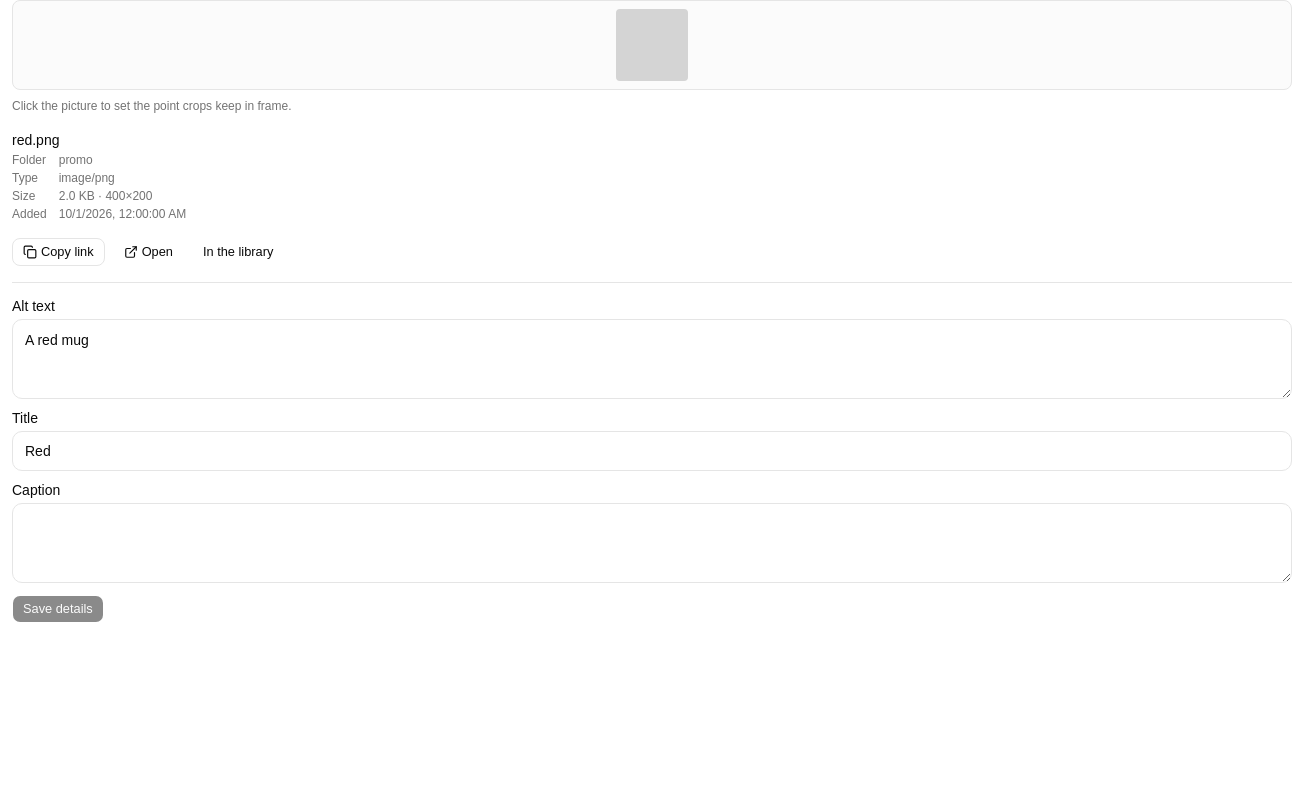
Test case: AssetPanel › puts the words back on Undo
The image size is (1304, 800).
Replace the text in the field labelled "Title" with "Blue". click: (652,451)
box: [12,431,1292,471]
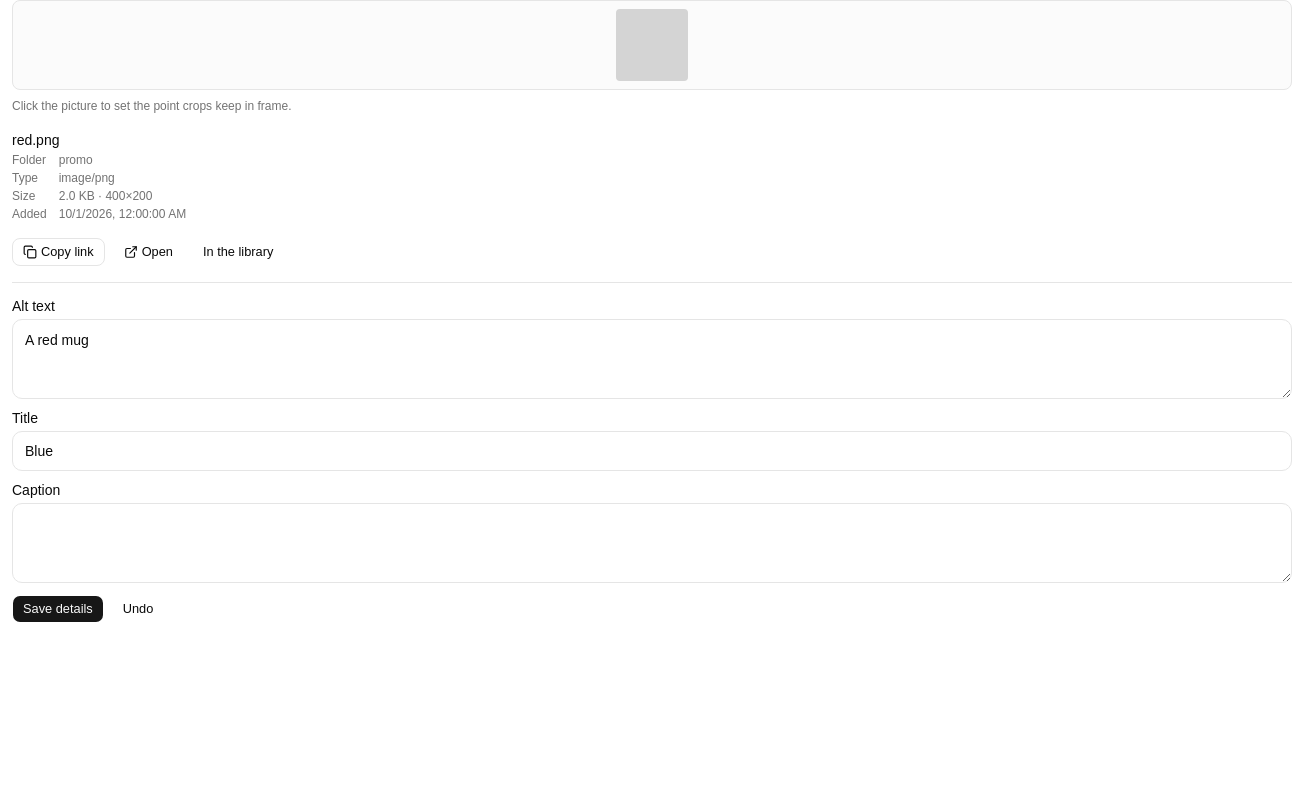
Click the button "Undo". click: (138,609)
box: [112,595,164,623]
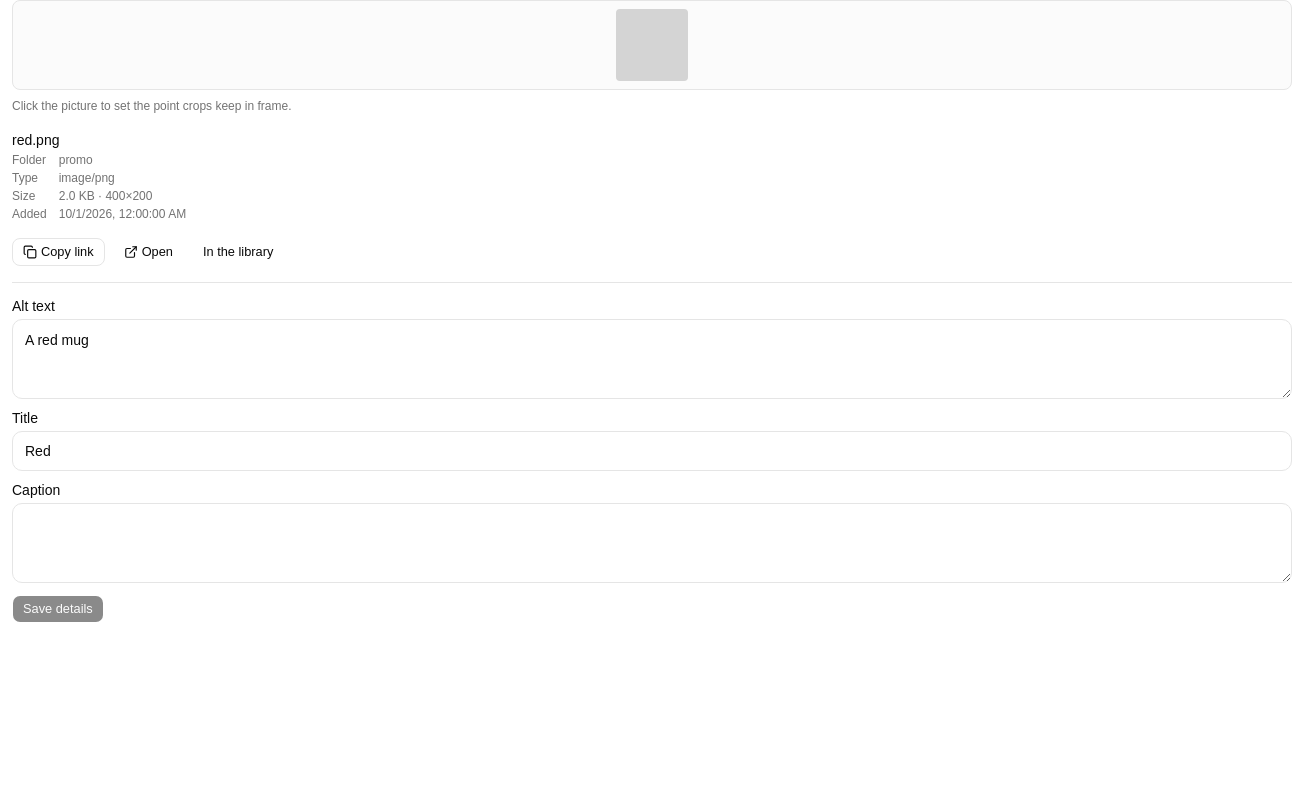
Expected: the field labelled "Title" holds "Red", [12,431,1292,471]
Expected: the button "Undo" is gone
Expected: the button "Save details" is disabled, [12,595,104,623]
